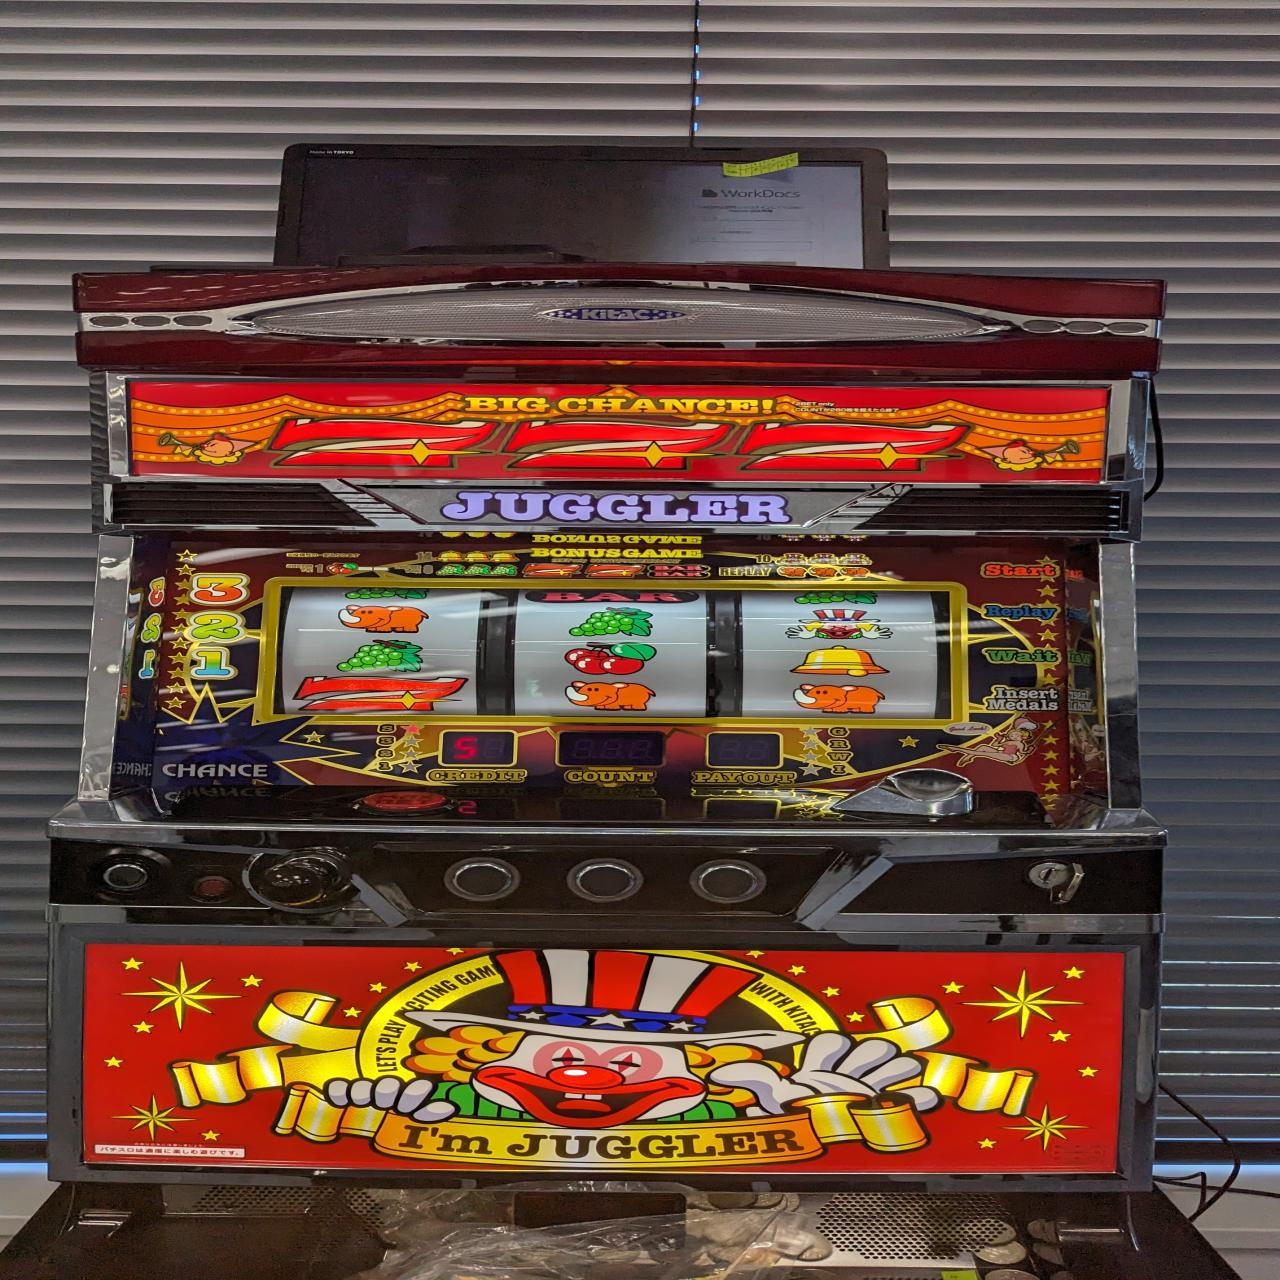7: (290, 674, 470, 715)
8: (791, 681, 890, 716), (564, 680, 661, 713), (335, 602, 431, 634)
Display: (271, 581, 955, 722)
bell: (789, 644, 892, 679)
cherry: (560, 640, 659, 676)
clown: (783, 606, 893, 641)
grape: (335, 639, 430, 675), (565, 606, 658, 639)
